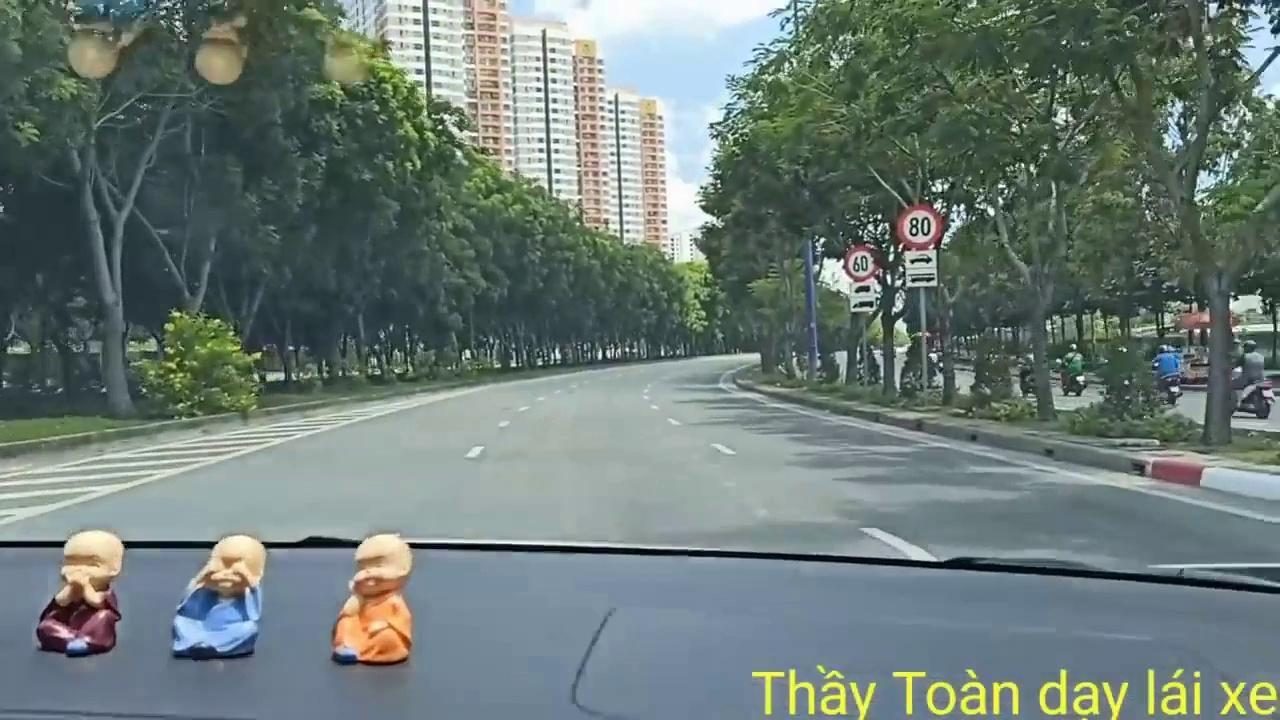Biển phụ: (904, 249, 938, 287), (850, 284, 876, 312)
GIơi hạn tốc độ 60Km/h: (844, 246, 876, 281)
Giới hạn tốc độ 80Km/h: (898, 203, 943, 249)
